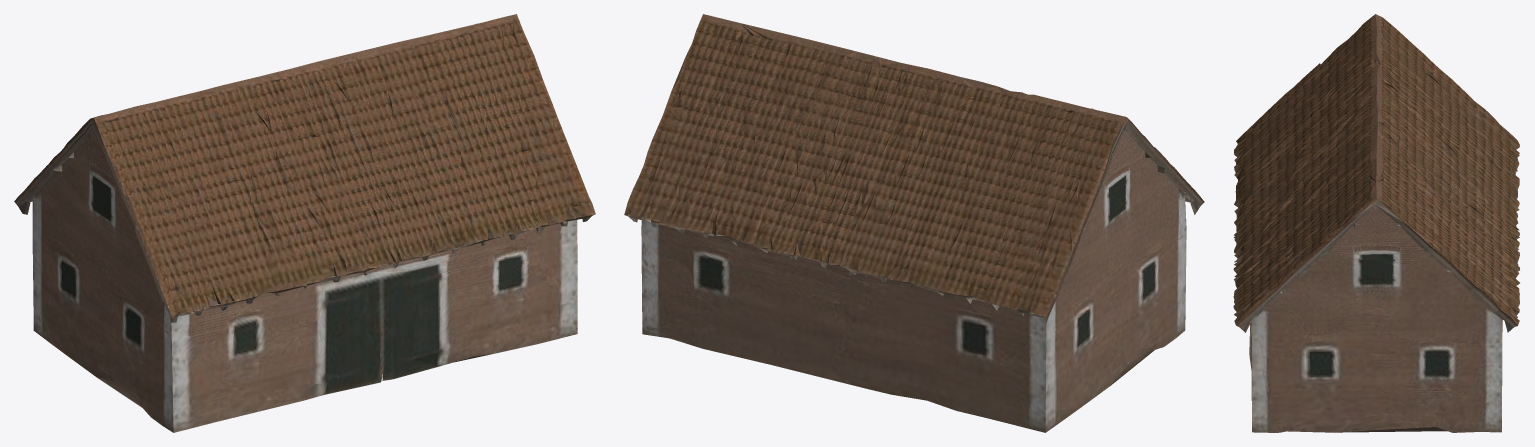
Rendered from barn.glb.
3 views of the same model, side by side, from view 1: azimuth 30°, elevation 25°; view 2: azimuth 150°, elevation 25°; view 3: azimuth 270°, elevation 25° (orthographic). The views are drawn at different scales.
Visible parts, largest first — view 1: output_unwrapped; view 2: output_unwrapped; view 3: output_unwrapped.
Boxes of the visible parts, x1,y1,x2,y2 form: output_unwrapped: (14, 14, 595, 432); output_unwrapped: (624, 14, 1204, 432); output_unwrapped: (1233, 14, 1519, 432).
Size of the model in its own units: 1.9 by 1.15 by 1.25.
Materials: 1 (1 with a texture image).
